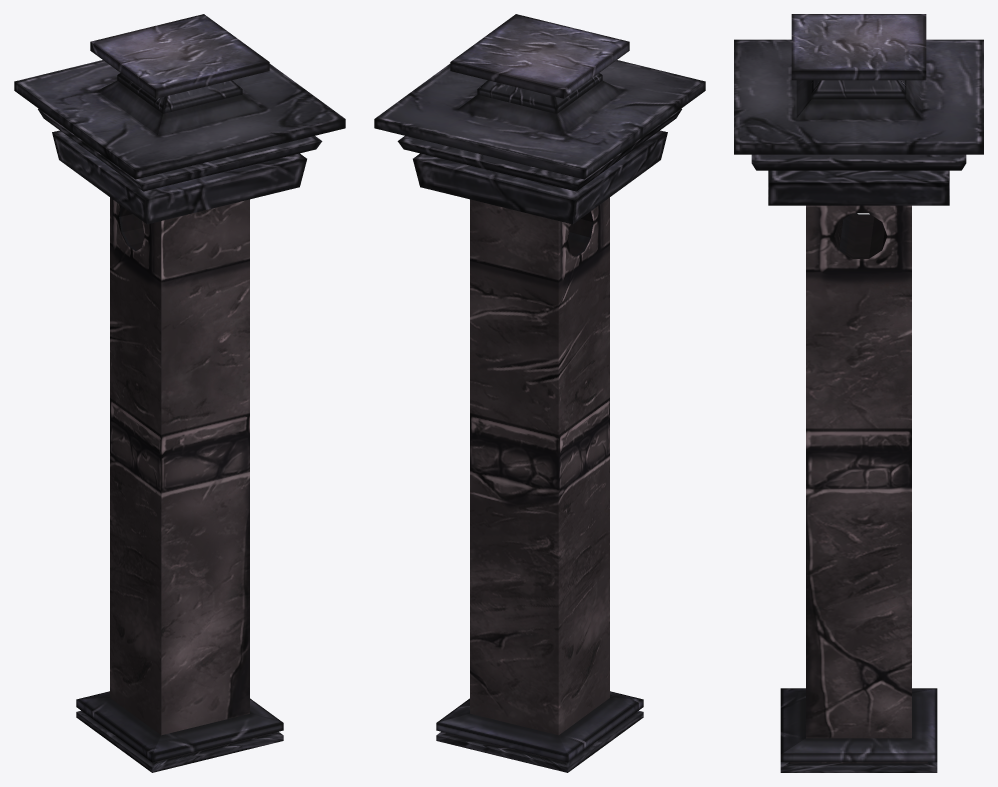
The model's file is TombTowerFinal.fbx.
3 renders of one model, left to right at view 1: azimuth 30°, elevation 25°; view 2: azimuth 150°, elevation 25°; view 3: azimuth 270°, elevation 25°, orthographic. The views are drawn at different scales.
Visible parts, largest first — view 1: Tomb_Set2:polySurface3; view 2: Tomb_Set2:polySurface3; view 3: Tomb_Set2:polySurface3.
Boxes of the visible parts, bbox=[...] form: Tomb_Set2:polySurface3: bbox=[14, 14, 345, 772]; Tomb_Set2:polySurface3: bbox=[374, 14, 705, 772]; Tomb_Set2:polySurface3: bbox=[734, 14, 983, 772].
Bounding box in the file's own units: 4.72 × 14.56 × 4.72.
Materials: 1 (1 with a texture image).
